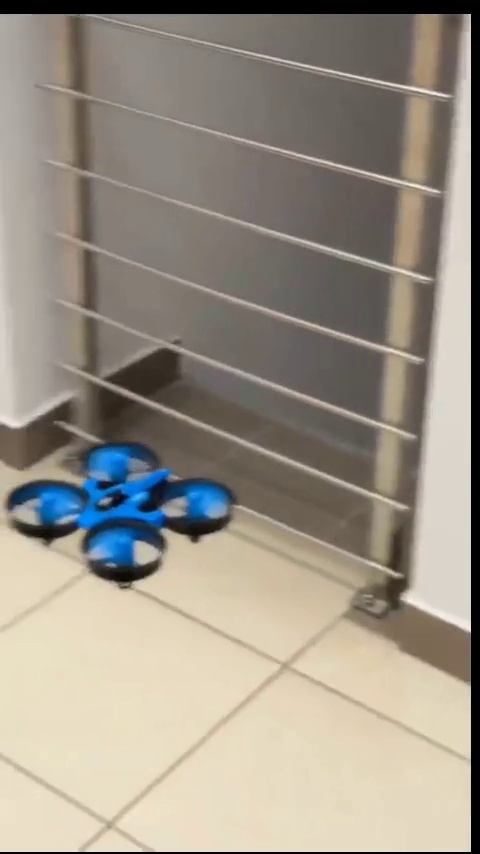drone: (18, 434, 236, 589)
